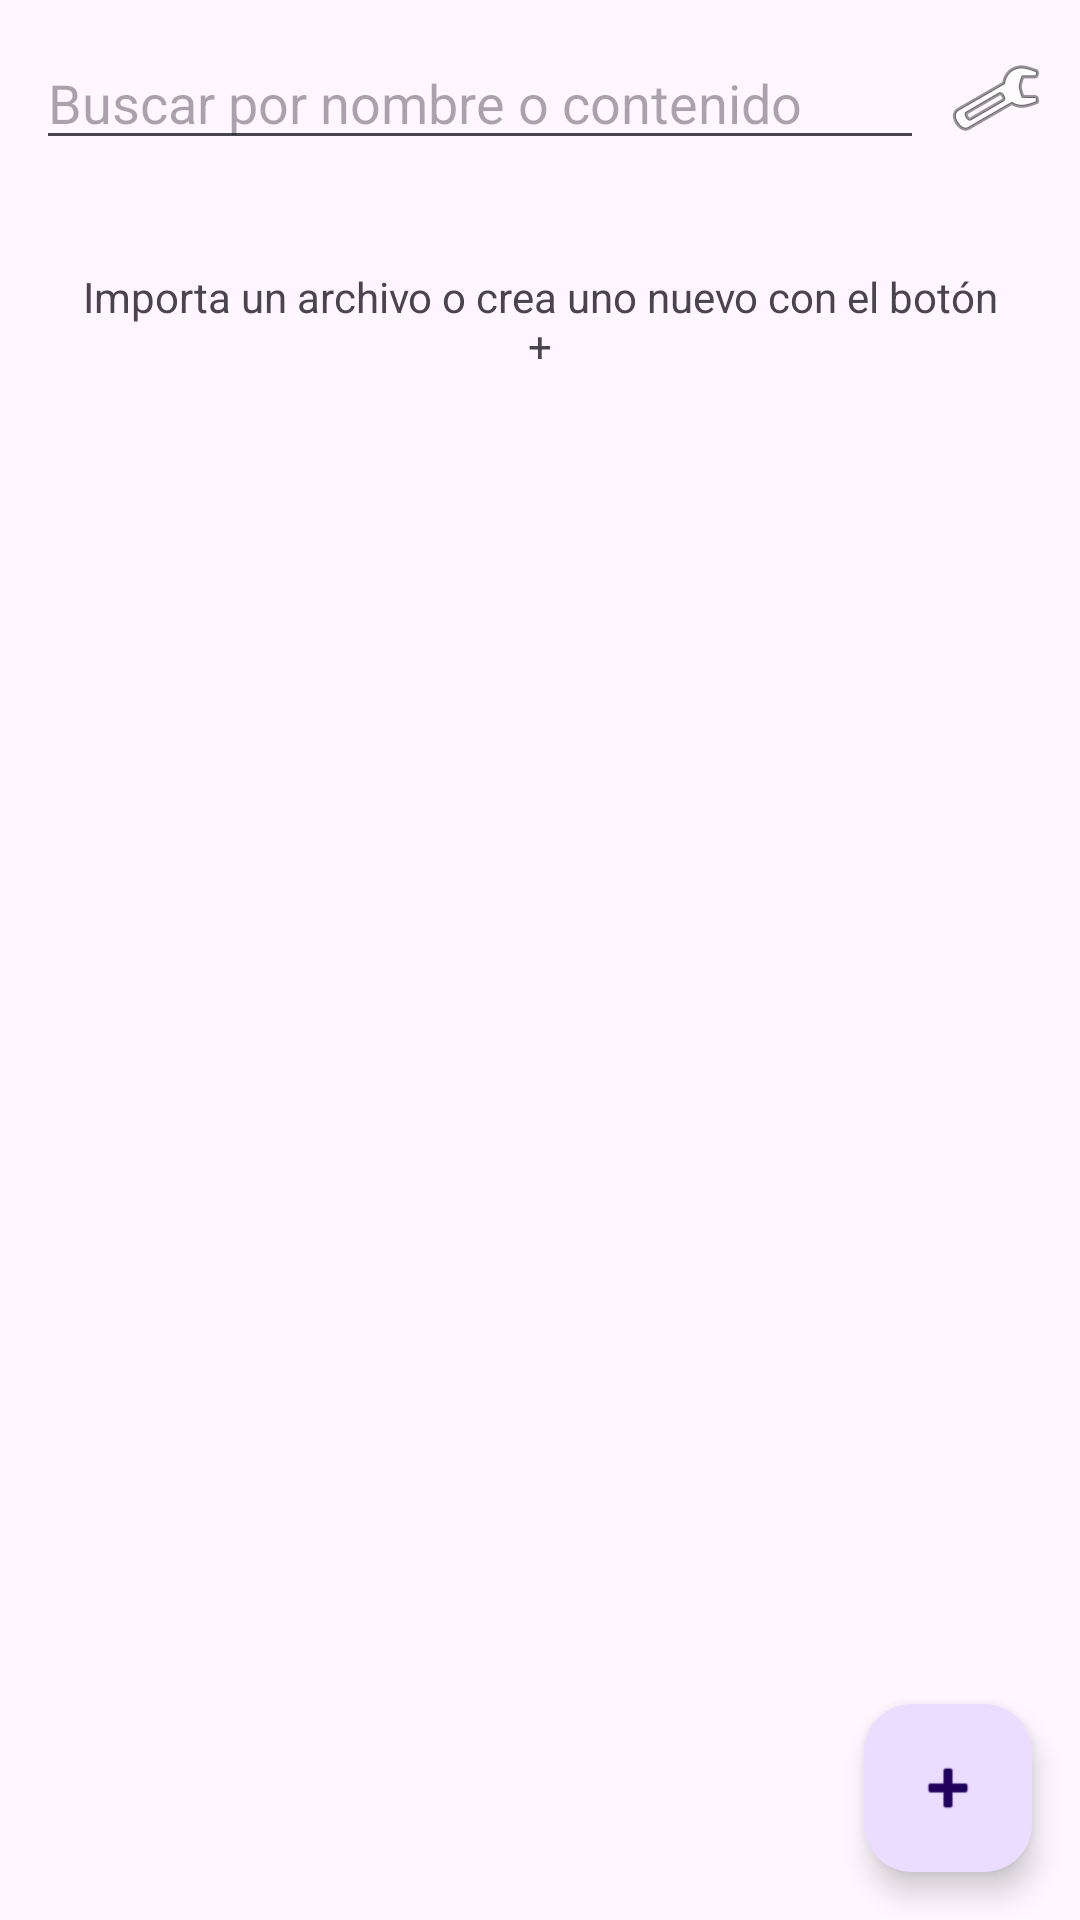

Where icons sit on this 1080*1920 app screen, as (x1, y1, x2, y2):
Ajustes: (953, 65, 1039, 131)
Importar o crear: (864, 1704, 1032, 1872)
